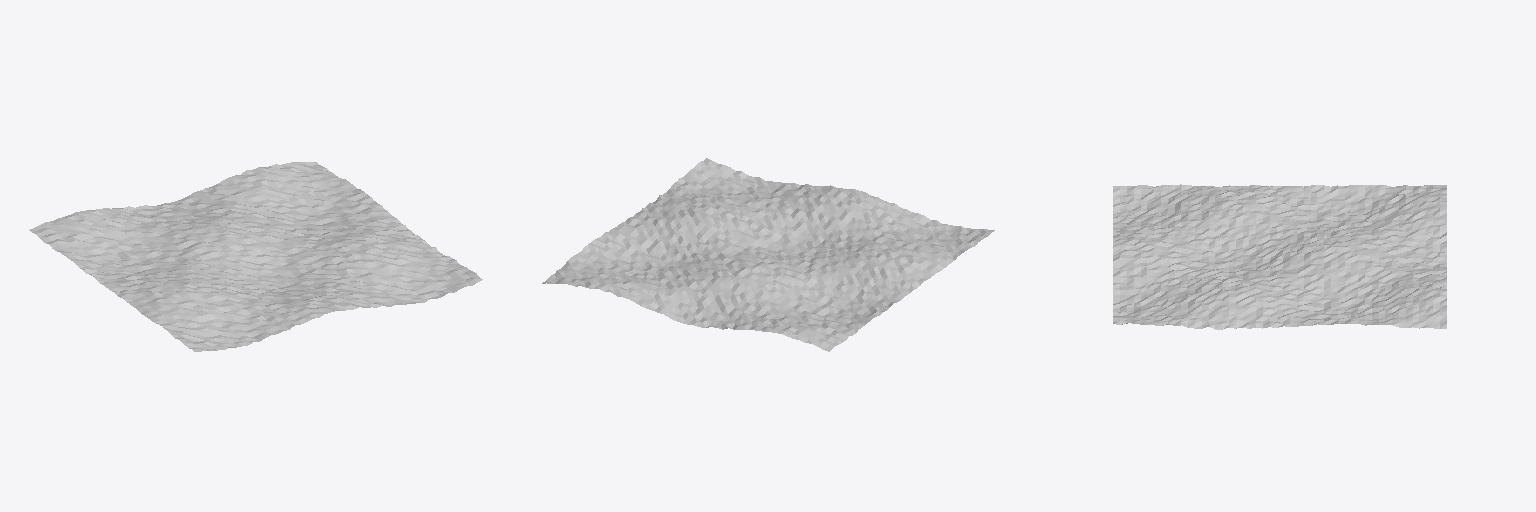
File: terrain.obj
3 renders of one model, left to right at view 1: azimuth 30°, elevation 25°; view 2: azimuth 150°, elevation 25°; view 3: azimuth 270°, elevation 25°, orthographic.
Parts seen in each view (by area): view 1: Terrain; view 2: Terrain; view 3: Terrain.
Boxes of the visible parts, box(x1,y1,x2,y2) form: Terrain: box(29, 162, 482, 351); Terrain: box(542, 158, 994, 351); Terrain: box(1113, 184, 1446, 329).
Bounding box in the file's own units: 49 × 2.33 × 49.